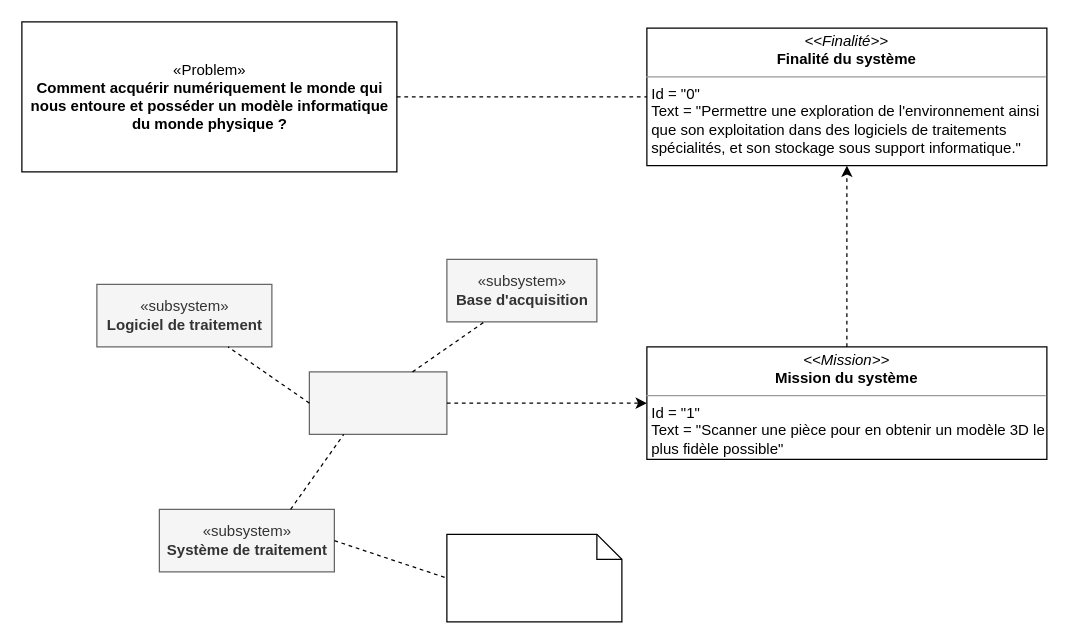
Some shapes in this 1069 by 644 pixel diagram are drawn without their labels. The box of each missing label's shape, as (x1, y1, x2, y2) in pixels:
Conçu en dehors du cadre du projet: (446, 533, 622, 622)
«system» Cartographie 3D: (308, 371, 447, 434)
